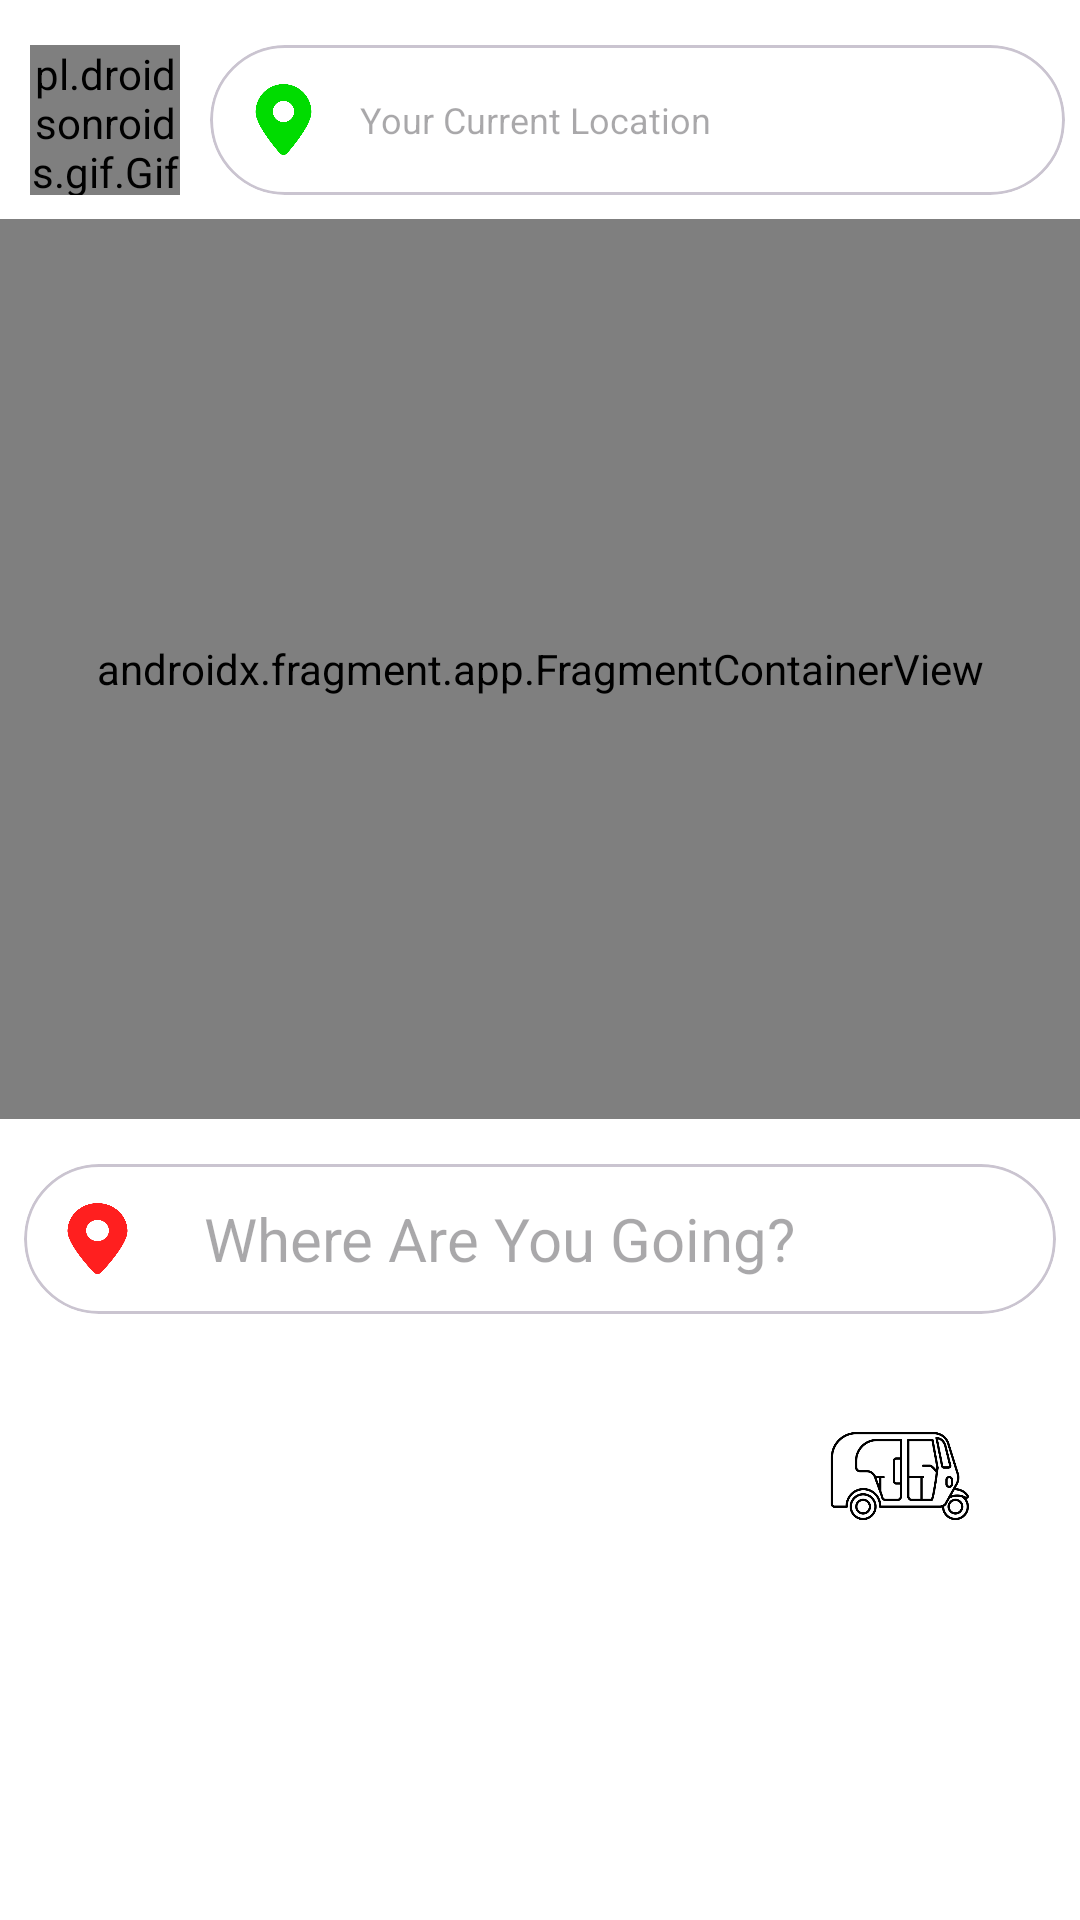

Icons on this 1080×1920 Android screen, each with the point to tap as point (x, y):
greenlocation: point (283, 119)
redlocation: point (97, 1238)
rickshaw: point (900, 1476)
